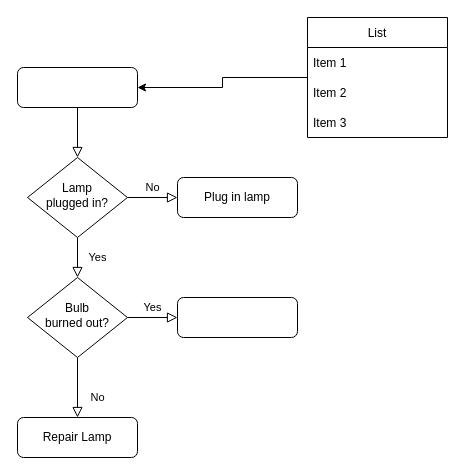
The diagram is 465 pixels wide and 475 high, and some of its shapes have lost their labels. Here are the shapes that lost their labels. From the top down, the centre of each, then its label:
At pixel 77 87: "User Specifies Parameters".
At pixel 237 317: "Replace Bulb".
